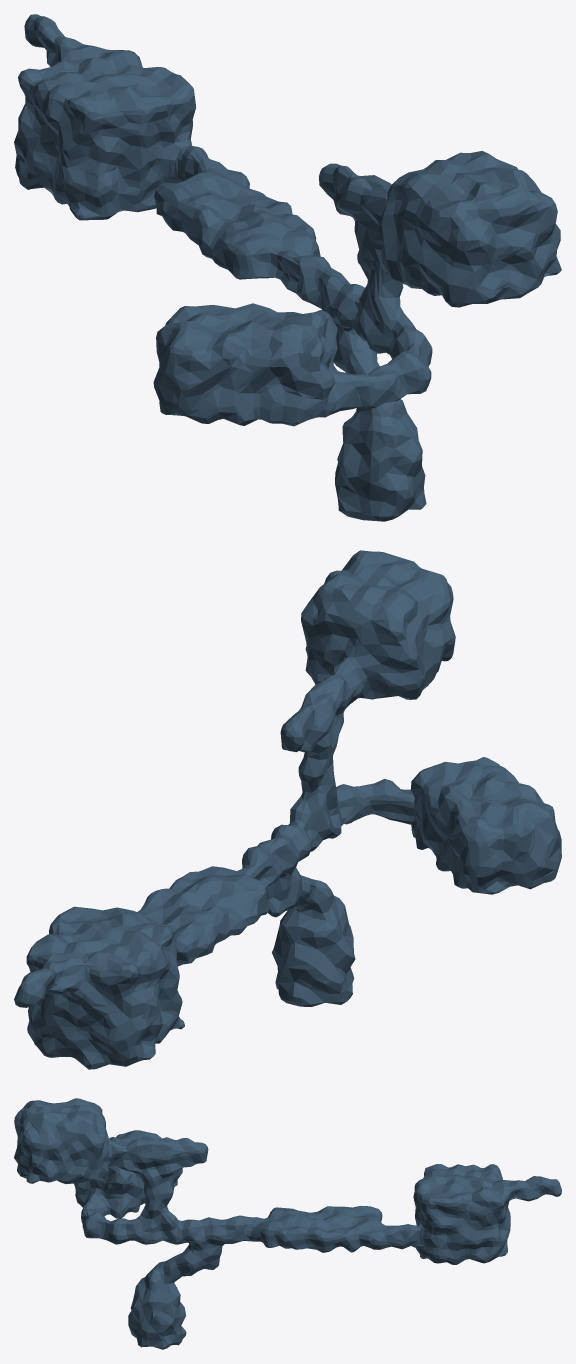
File: Nivel_Shido.fbx
The picture shows the model from 3 angles, top to bottom: view 1: azimuth 30°, elevation 25°; view 2: azimuth 150°, elevation 25°; view 3: azimuth 270°, elevation 25°; orthographic projection. The views are drawn at different scales.
Parts seen in each view (by area): view 1: Cube; view 2: Cube; view 3: Cube.
Part boxes in pixels (<box>): Cube: <box>14,14,561,521</box>; Cube: <box>14,550,561,1069</box>; Cube: <box>14,1098,561,1349</box>.
Bounding box in the file's own units: 2168 × 2591 × 5337.
